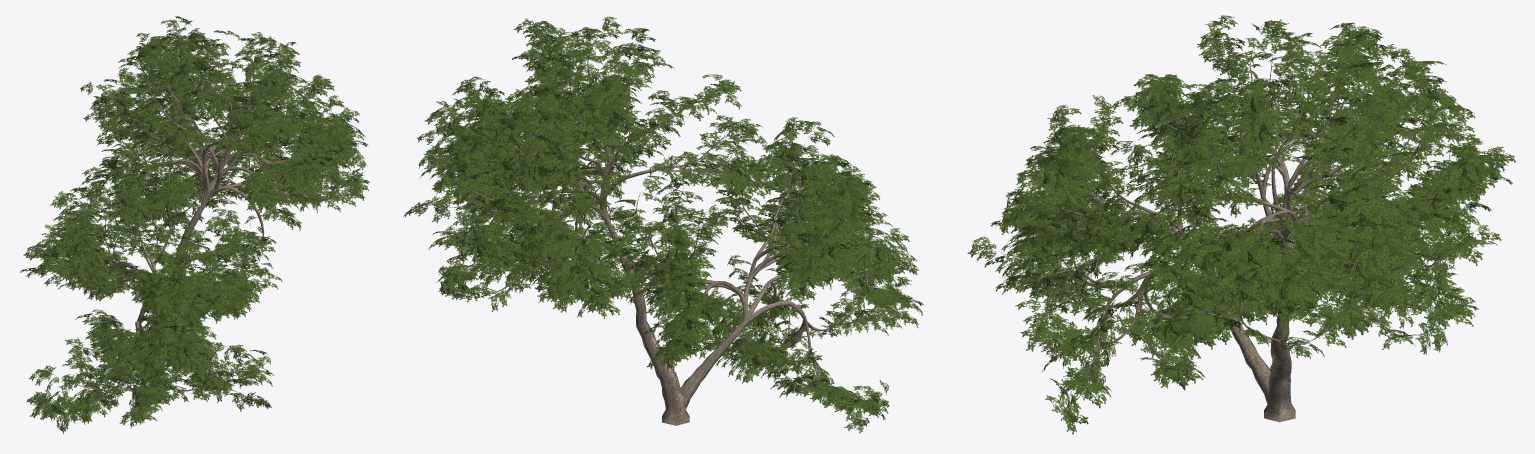
File: carvalhao_1.glb
The picture shows the model from 3 angles, left to right: view 1: azimuth 30°, elevation 25°; view 2: azimuth 150°, elevation 25°; view 3: azimuth 270°, elevation 25°; orthographic projection. The views are drawn at different scales.
Parts seen in each view (by area): view 1: foliage_3, structure_2; view 2: foliage_3, structure_2; view 3: foliage_3, structure_2.
Boxes of the visible parts, x1,y1,x2,y2 form: foliage_3: (20, 16, 370, 434); structure_2: (41, 36, 354, 416); foliage_3: (403, 16, 923, 433); structure_2: (423, 31, 902, 425); foliage_3: (967, 15, 1515, 434); structure_2: (1000, 25, 1480, 422).
Size of the model in its own units: 127 by 107 by 123.
2 materials, 2 textured.
